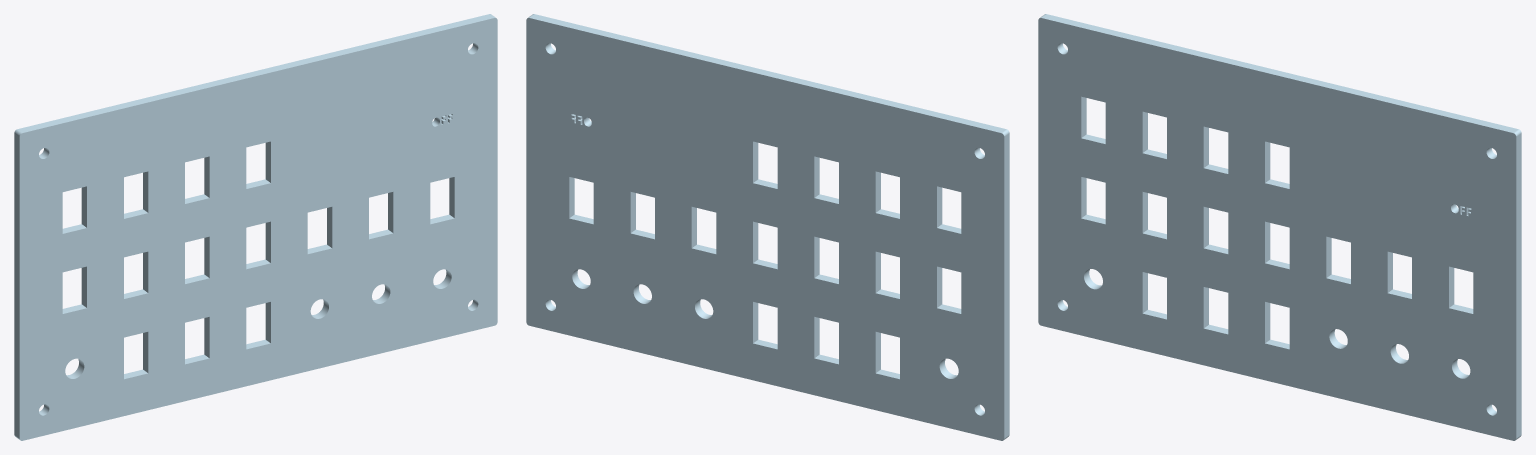
File: A320LTP Lid.gltf
3 views of the same model, side by side, from view 1: azimuth 30°, elevation 25°; view 2: azimuth 150°, elevation 25°; view 3: azimuth 330°, elevation 25° (orthographic).
Parts seen in each view (by area): view 1: Part 1; view 2: Part 1; view 3: Part 1.
Part boxes in pixels (x1,y1,x2,y2): Part 1: [14, 14, 497, 440]; Part 1: [526, 14, 1009, 440]; Part 1: [1038, 14, 1521, 440].
Size of the model in its own units: 0.156 by 0.096 by 0.003.
